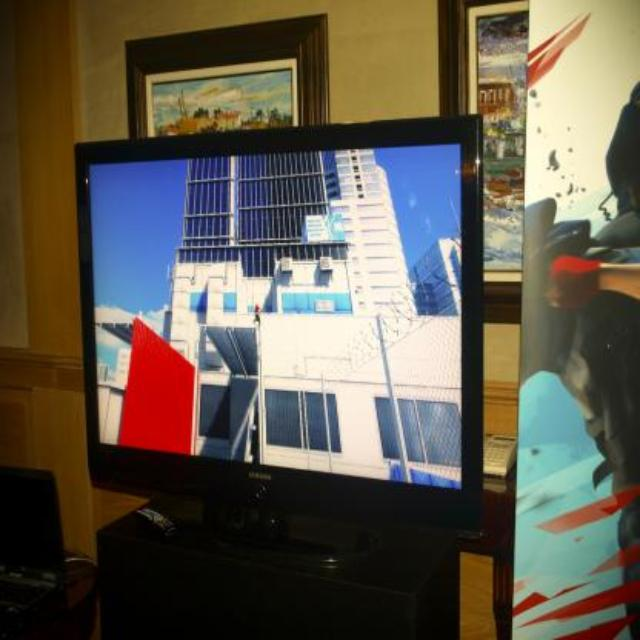Flat-Panel-Monitor: (44, 116, 506, 578)
